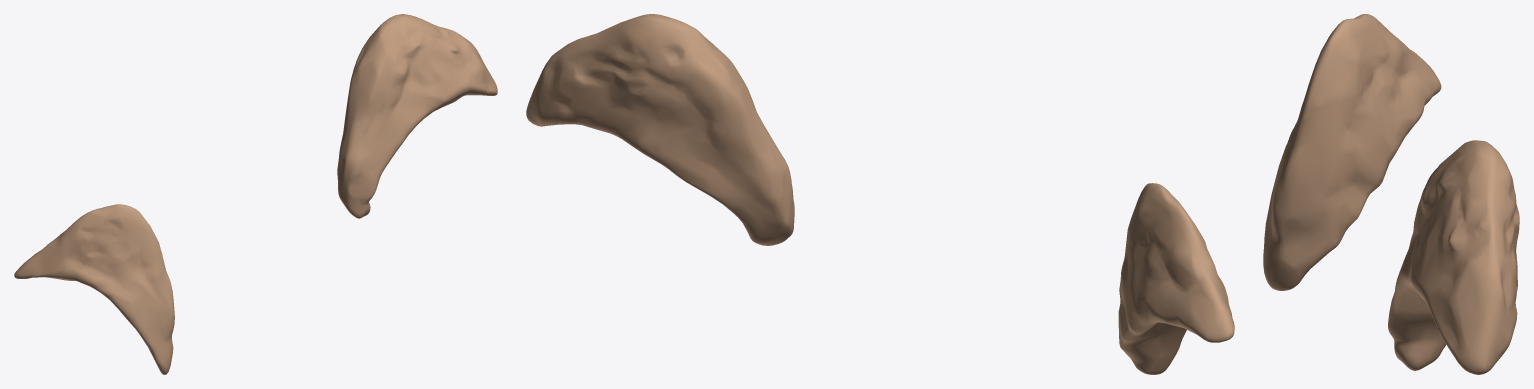
File: detail-endocrine-abdomen.glb
3 renders of one model, left to right at view 1: azimuth 30°, elevation 25°; view 2: azimuth 150°, elevation 25°; view 3: azimuth 270°, elevation 25°, orthographic. The views are drawn at different scales.
Visible parts, largest first — view 1: za-8ef65bfe59811008, za-a342056b09a320a2; view 2: za-8ef65bfe59811008, za-a342056b09a320a2; view 3: za-a342056b09a320a2, za-8ef65bfe59811008.
Boxes of the visible parts, bbox=[...] form: za-8ef65bfe59811008: bbox=[337, 14, 497, 218]; za-a342056b09a320a2: bbox=[14, 204, 174, 374]; za-8ef65bfe59811008: bbox=[526, 14, 794, 245]; za-a342056b09a320a2: bbox=[1118, 183, 1234, 374]; za-a342056b09a320a2: bbox=[1263, 14, 1441, 290]; za-8ef65bfe59811008: bbox=[1388, 140, 1519, 374].
Size of the model in its own units: 0.138 by 0.0627 by 0.0392.
